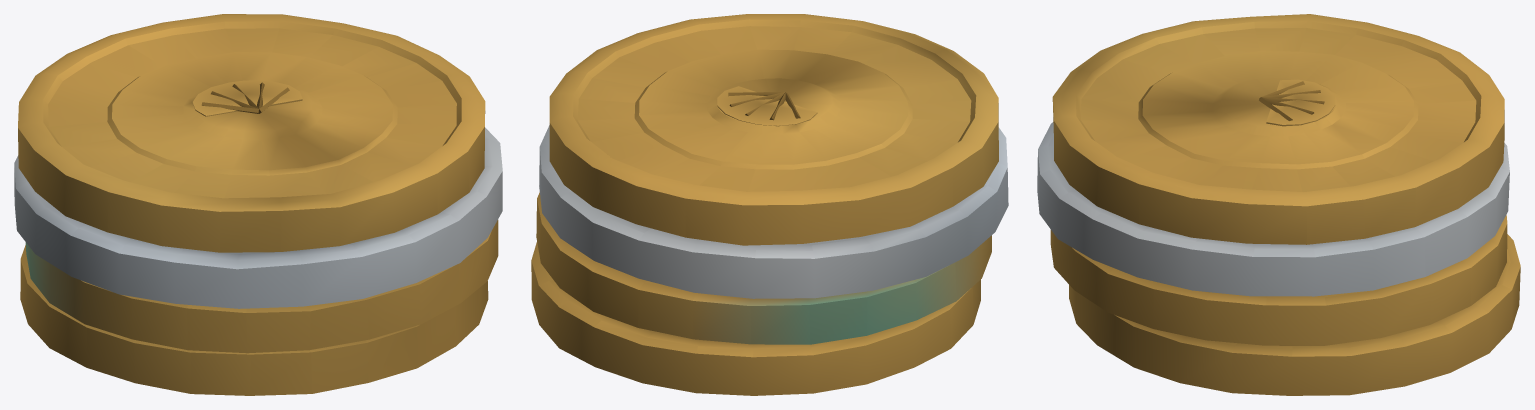
The model's file is grotto_coin_pile_c.glb.
3 renders of one model, left to right at view 1: azimuth 30°, elevation 25°; view 2: azimuth 150°, elevation 25°; view 3: azimuth 270°, elevation 25°, orthographic. The views are drawn at different scales.
Parts seen in each view (by area): view 1: grotto_coin_pile_c; view 2: grotto_coin_pile_c; view 3: grotto_coin_pile_c.
Part boxes in pixels (box(x1,y1,x2,y2)): grotto_coin_pile_c: box(14, 14, 502, 395); grotto_coin_pile_c: box(531, 14, 1008, 395); grotto_coin_pile_c: box(1037, 14, 1520, 395).
Bounding box in the file's own units: 5.67 × 2.71 × 5.79.
